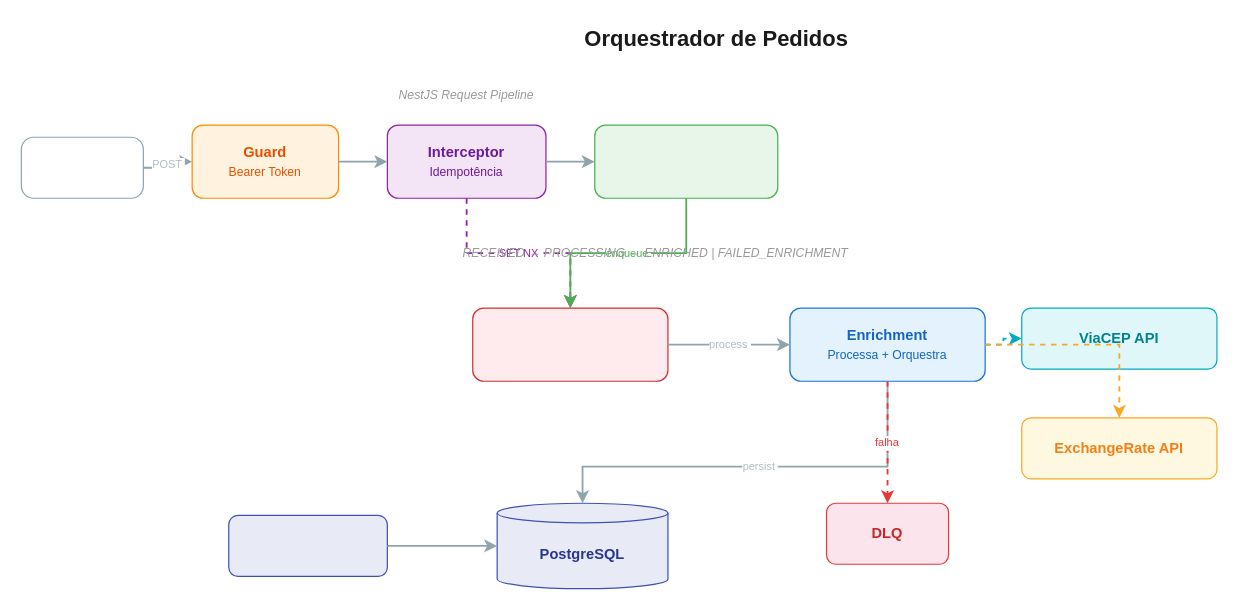
Image size: 1238x610. Some labels were removed from this diagram. Here are the shapes that lost their labels. From the top down, the centre of each, then its label:
At (81,167): "Cliente".
At (686,161): "Webhook Validação + Enfileirar".
At (570,344): "Redis BullMQ + Idempotência".
At (307,545): "Orders API".
